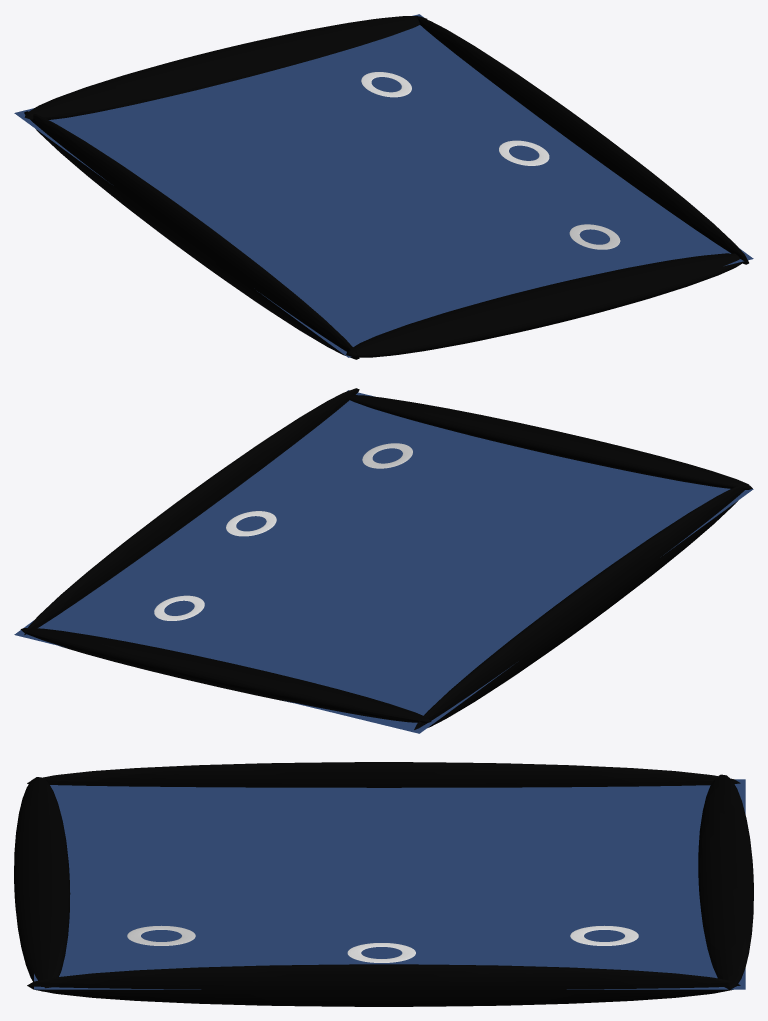
The model's file is Mesa.fbx.
3 views of the same model, one above another, from view 1: azimuth 30°, elevation 25°; view 2: azimuth 150°, elevation 25°; view 3: azimuth 270°, elevation 25° (orthographic). The views are drawn at different scales.
Visible parts, largest first — view 1: Plane, Sphere.002, Sphere.001, Sphere.003, Sphere, Torus, Torus.002, Torus.003; view 2: Plane, Sphere.003, Sphere.001, Sphere.002, Sphere, Torus, Torus.002, Torus.003; view 3: Plane, Sphere, Sphere.003, Sphere.002, Sphere.001, Torus.003, Torus, Torus.002.
Part boxes in pixels (left/top/right/bottom): Plane: left=14, top=14, right=753, bottom=357; Sphere.002: left=346, top=253, right=742, bottom=357; Sphere.001: left=24, top=16, right=427, bottom=119; Sphere.003: left=24, top=111, right=359, bottom=359; Sphere: left=417, top=16, right=748, bottom=264; Torus: left=569, top=224, right=620, bottom=249; Torus.002: left=499, top=140, right=549, bottom=165; Torus.003: left=361, top=72, right=411, bottom=97; Plane: left=14, top=390, right=753, bottom=733; Sphere.003: left=414, top=483, right=746, bottom=729; Sphere.001: left=20, top=628, right=431, bottom=722; Sphere.002: left=350, top=395, right=752, bottom=489; Sphere: left=24, top=388, right=359, bottom=634; Torus: left=362, top=443, right=412, bottom=468; Torus.002: left=226, top=511, right=276, bottom=536; Torus.003: left=154, top=595, right=204, bottom=620; Plane: left=34, top=779, right=745, bottom=989; Sphere: left=27, top=964, right=740, bottom=1006; Sphere.003: left=27, top=762, right=740, bottom=787; Sphere.002: left=14, top=777, right=70, bottom=991; Sphere.001: left=698, top=774, right=753, bottom=989; Torus.003: left=570, top=925, right=638, bottom=945; Torus: left=127, top=925, right=195, bottom=945; Torus.002: left=347, top=943, right=415, bottom=962.
Size of the model in its own units: 1405 by 129 by 2080.
